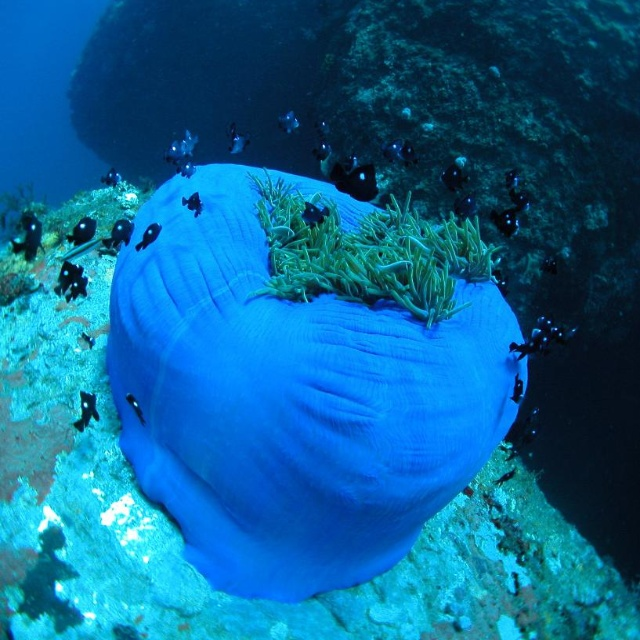Fish: (332, 153, 382, 209), (13, 213, 47, 266), (100, 219, 140, 253), (52, 263, 89, 297), (74, 390, 102, 431), (63, 215, 98, 245), (382, 142, 414, 171), (136, 222, 162, 253), (503, 341, 547, 357), (494, 210, 519, 237), (511, 370, 526, 415), (276, 110, 302, 134), (224, 121, 242, 155), (504, 166, 526, 192), (66, 278, 88, 302), (127, 393, 145, 420), (97, 167, 121, 187), (165, 136, 183, 160), (442, 169, 466, 187), (176, 162, 201, 178), (182, 189, 201, 210), (548, 327, 569, 346), (513, 191, 533, 210), (182, 130, 197, 153), (318, 140, 333, 161), (456, 194, 473, 210), (318, 115, 331, 134), (83, 333, 96, 350), (536, 320, 554, 326)
